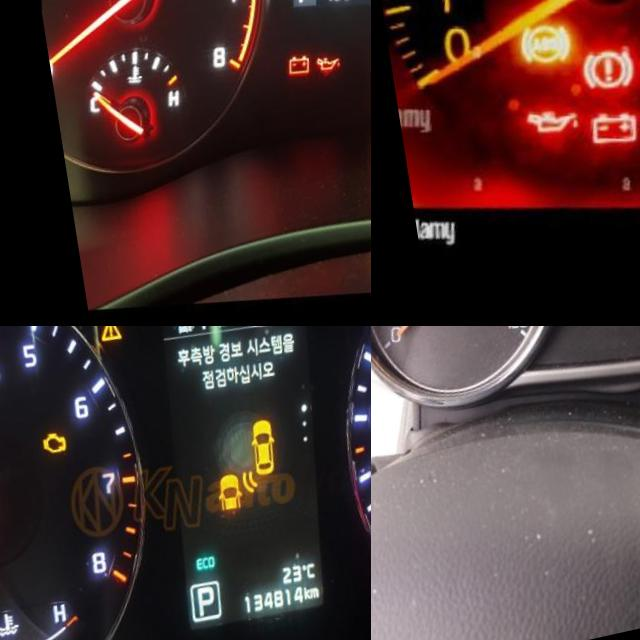Central Warning lamp: (91, 326, 117, 352), (248, 326, 269, 340)
